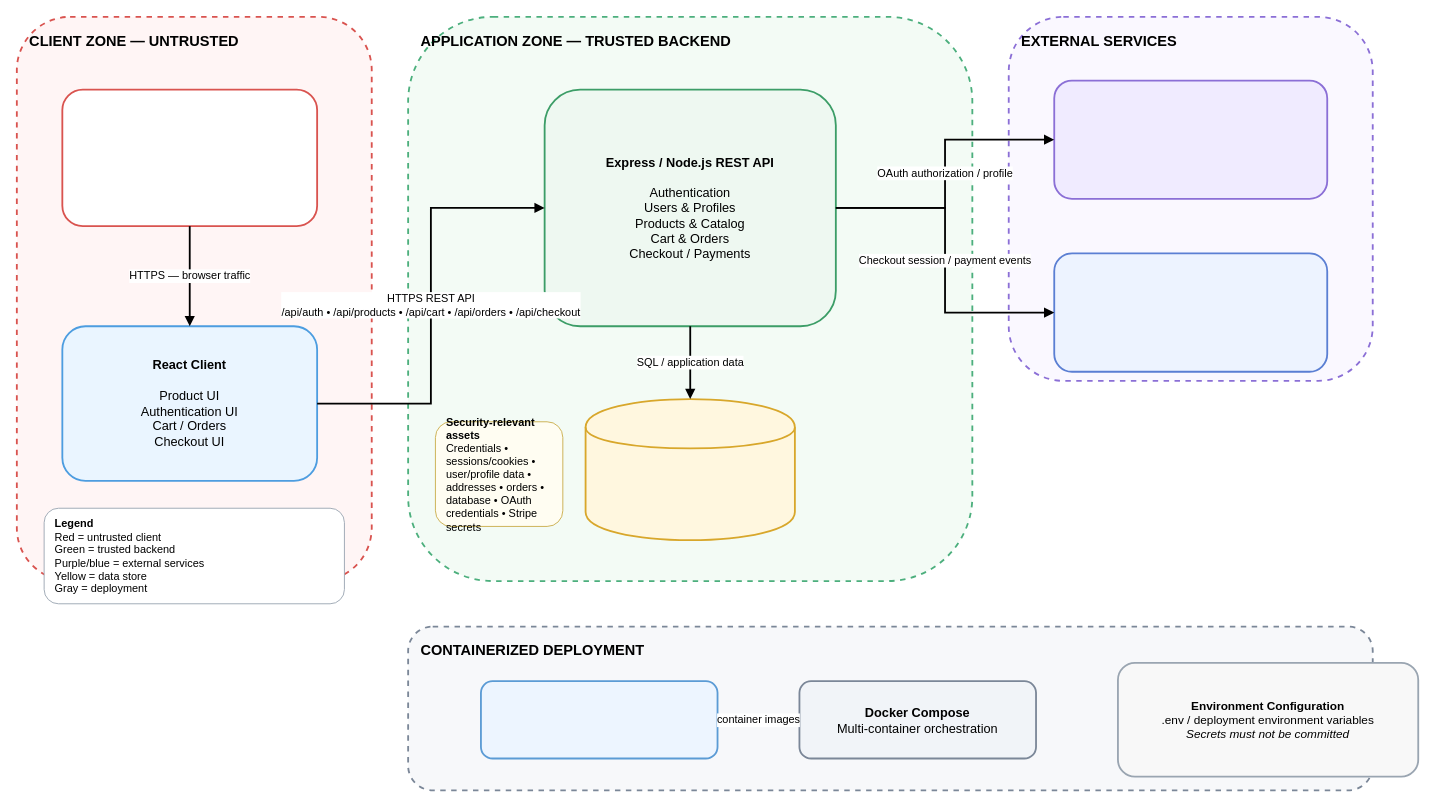
This 1434x806 diagram has some shape labels left out. Here are the shapes that lost their labels. From the top down, the box of each, then its label:
(61, 88, 318, 227): User / Customer Browse products Login / Signup Cart & Orders Checkout
(1053, 79, 1328, 199): GitHub OAuth External authentication provider Authorization code / profile
(1053, 252, 1328, 372): Stripe Payment / Checkout Gateway Checkout Session Payment Events
(584, 398, 795, 541): PostgreSQL Users Products Cart Orders Addresses Sessions
(480, 680, 718, 759): Docker Client + Server + PostgreSQL
